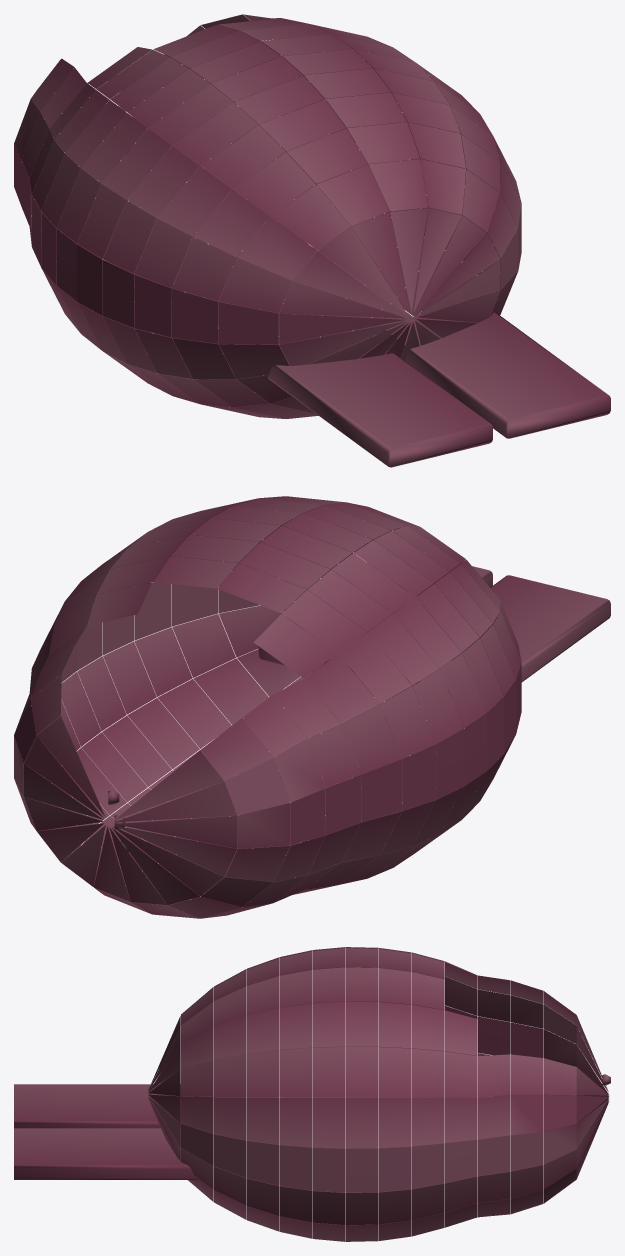
File: wear_bro_coat.glb
3 views of the same model, one above another, from view 1: azimuth 30°, elevation 25°; view 2: azimuth 150°, elevation 25°; view 3: azimuth 270°, elevation 25° (orthographic). The views are drawn at different scales.
Visible parts, largest first — view 1: Item; view 2: Item; view 3: Item.
Boxes of the visible parts, x1=… form: Item: x1=14, y1=14, x2=610, y2=467; Item: x1=14, y1=496, x2=610, y2=918; Item: x1=14, y1=947, x2=610, y2=1241.
Bounding box in the file's own units: 0.661 × 0.5145 × 1.09.
